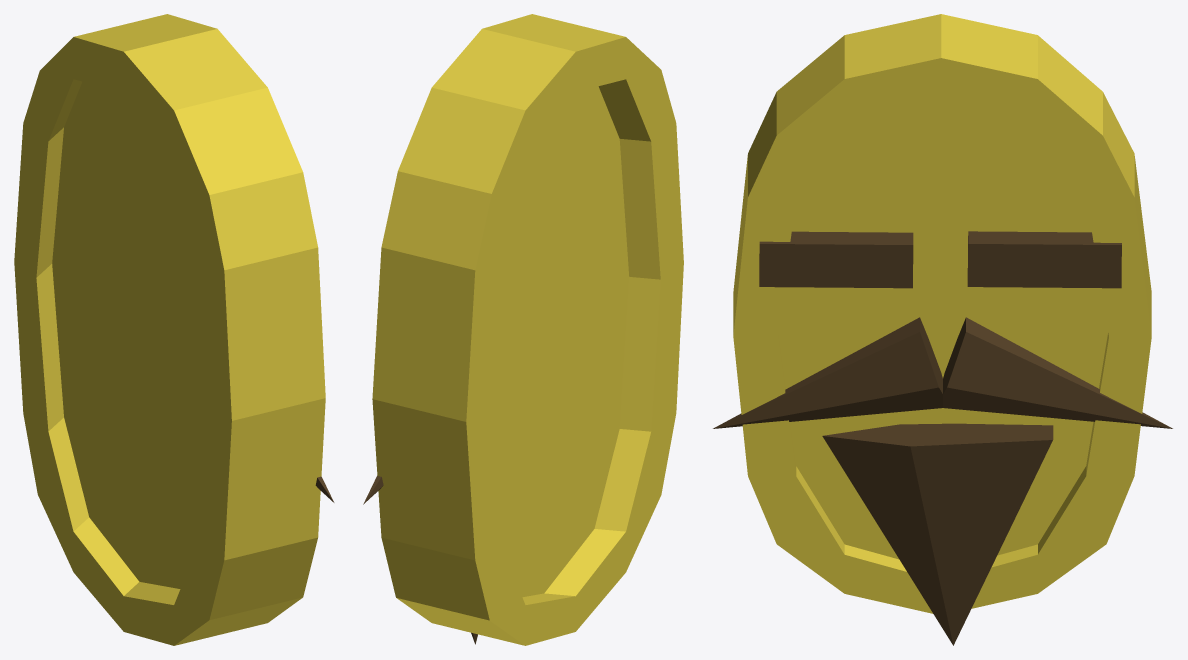
Rendered from DadCoin.fbx.
The picture shows the model from 3 angles, left to right: view 1: azimuth 30°, elevation 25°; view 2: azimuth 150°, elevation 25°; view 3: azimuth 270°, elevation 25°; orthographic projection. The views are drawn at different scales.
Parts seen in each view (by area): view 1: Cube; view 2: Cube; view 3: Cube, Cube.001.
Part boxes in pixels (box(x1,y1,x2,y2)): Cube: box(14, 14, 325, 645); Cube: box(372, 14, 683, 645); Cube: box(733, 14, 1151, 613); Cube.001: box(713, 231, 1172, 645).
Size of the model in its own units: 46.28 by 227 by 161.
